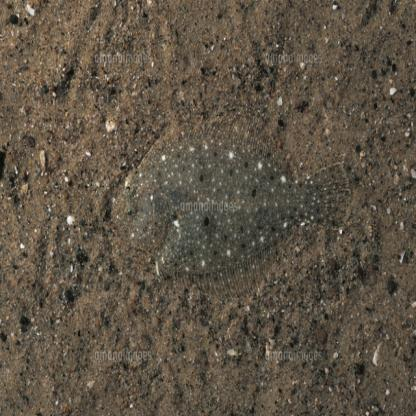flounder: (113, 115, 350, 291)
